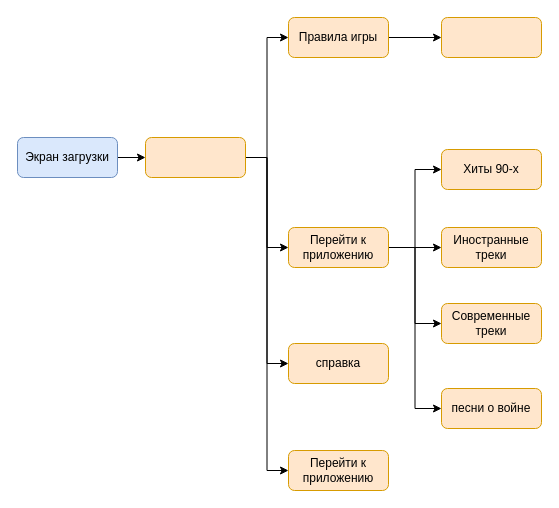
Some shapes in this 559 by 508 pixel diagram are drawn without their labels. The shapes that lost their labels are listed below. From the top down, each one's centre as x and y in pixels, then its label:
At (x=491, y=37): "Правила".
At (x=195, y=157): "Главная страница".
